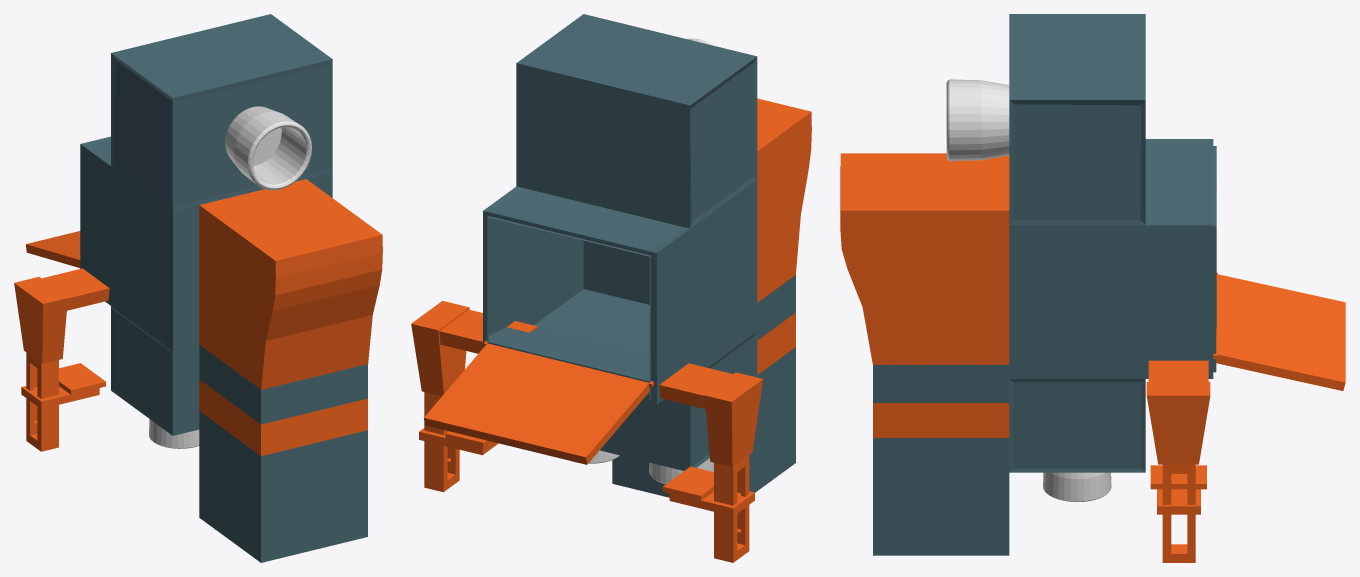
The model's file is Vaisseau_03.fbx.
The picture shows the model from 3 angles, left to right: view 1: azimuth 30°, elevation 25°; view 2: azimuth 150°, elevation 25°; view 3: azimuth 270°, elevation 25°; orthographic projection. The views are drawn at different scales.
Visible parts, largest first — view 1: Cube, Cube.007, Cube.001, Réacteur 1, Cube.003, Cube.004, Cube.006, Porte.001, Réacteur 3; view 2: Cube, Porte.001, Cube.003, Cube.001, Cube.007, Cube.004, Cube.006, Réacteur 3; view 3: Cube, Cube.007, Cube.001, Porte.001, Cube.003, Réacteur 1, Cube.004, Réacteur 2, Cube.006.
Part boxes in pixels (box(x1,y1,x2,y2)): Cube: box(80, 14, 332, 435); Cube.007: box(199, 179, 382, 389); Cube.001: box(199, 345, 367, 562); Réacteur 1: box(225, 106, 311, 190); Cube.003: box(14, 268, 109, 363); Cube.004: box(26, 352, 58, 451); Cube.006: box(21, 363, 105, 408); Porte.001: box(25, 231, 80, 267); Réacteur 3: box(149, 419, 199, 448); Cube: box(483, 14, 757, 470); Porte.001: box(424, 341, 653, 464); Cube.003: box(411, 301, 762, 466); Cube.001: box(612, 275, 795, 497); Cube.007: box(757, 98, 811, 302); Cube.004: box(424, 392, 749, 562); Cube.006: box(419, 428, 754, 516); Réacteur 3: box(649, 458, 713, 484); Cube: box(1009, 14, 1216, 472); Cube.007: box(840, 153, 1009, 364); Cube.001: box(873, 364, 1009, 555); Porte.001: box(1213, 272, 1345, 390); Cube.003: box(1146, 360, 1210, 464); Réacteur 1: box(946, 79, 1009, 161); Cube.004: box(1162, 464, 1195, 562); Réacteur 2: box(1043, 472, 1111, 501); Cube.006: box(1150, 465, 1206, 514).
Bounding box in the file's own units: 551 × 760 × 741.
